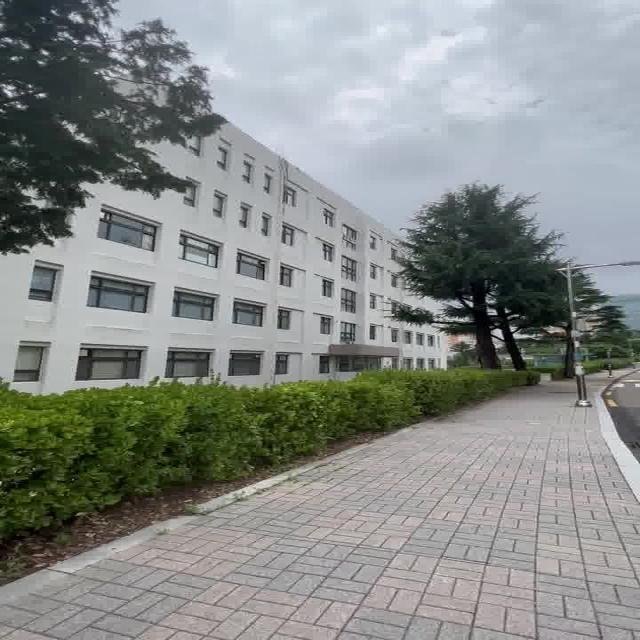building: (139, 141, 389, 371)
